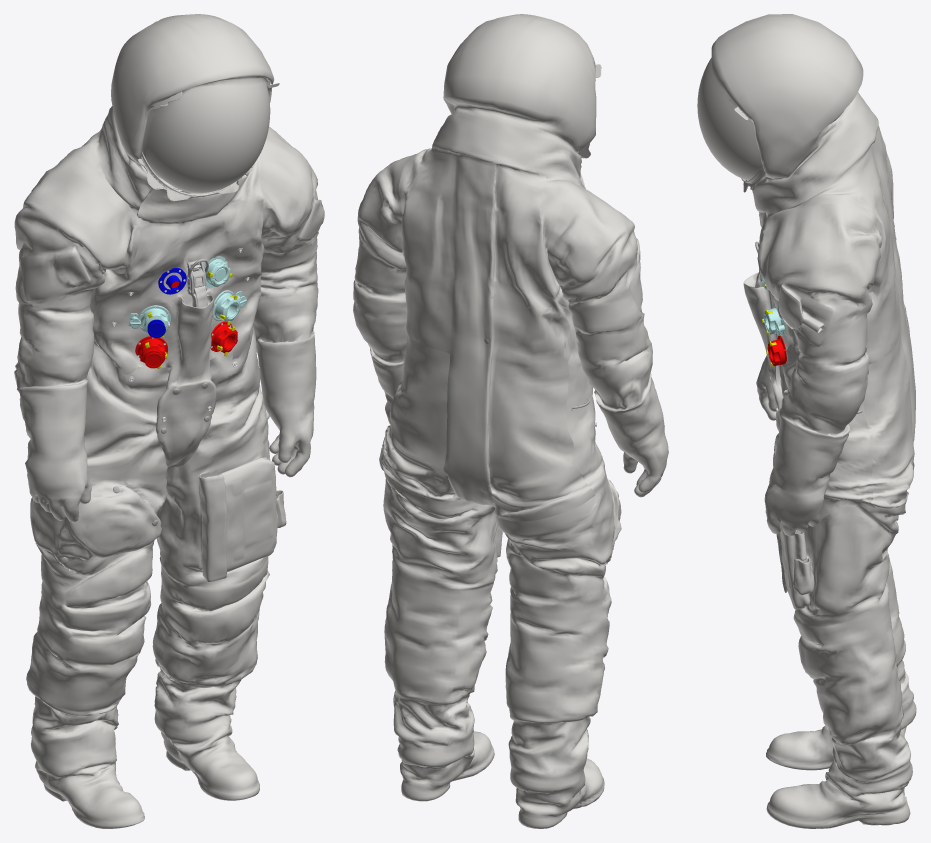
Rendered from ArmstrongR5.fbx.
3 renders of one model, left to right at view 1: azimuth 30°, elevation 25°; view 2: azimuth 150°, elevation 25°; view 3: azimuth 270°, elevation 25°, orthographic. The views are drawn at different scales.
Parts seen in each view (by area): view 1: ArmstrongR5; view 2: ArmstrongR5; view 3: ArmstrongR5.
Part boxes in pixels (x1,y1,x2,y2): ArmstrongR5: (14, 14, 324, 828); ArmstrongR5: (353, 14, 668, 828); ArmstrongR5: (697, 14, 916, 828).
Size of the model in its own units: 755 by 1849 by 474.
